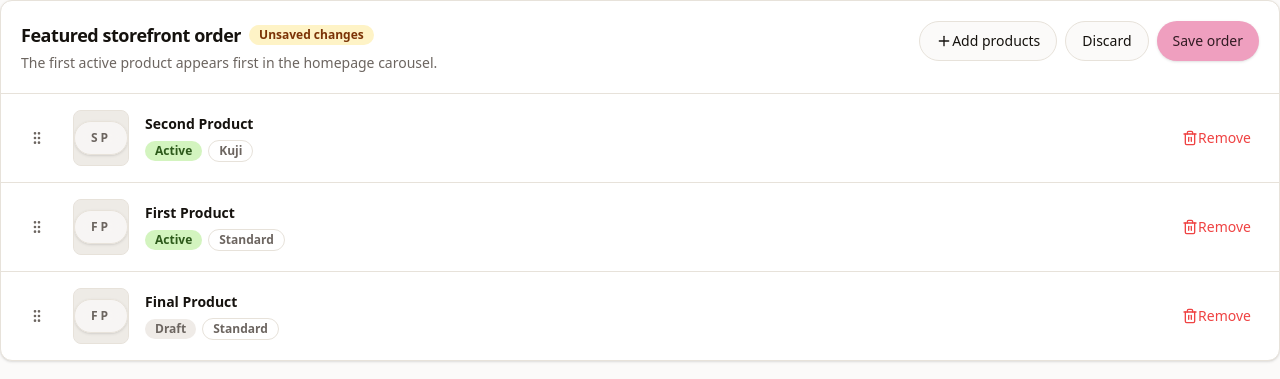
Test: FeaturedOrderSection › confirms discard and restores the persisted order
The width and height of the screenshot is (1280, 379).
Click the button "Discard" at (1107, 41), box [1065, 21, 1148, 61]
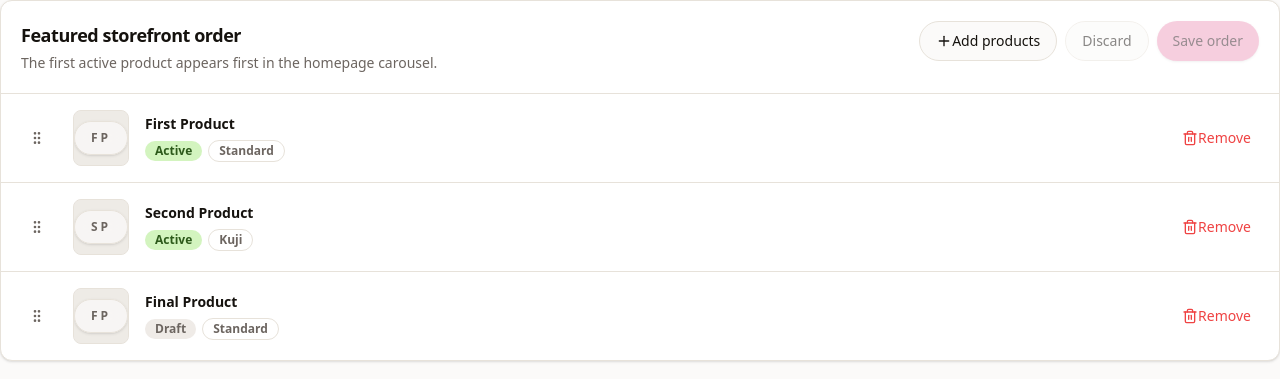
Expected: the list item that starts with "First Product" is shown, [145, 114, 235, 133]
Expected: the button "Save order" is disabled, [1156, 21, 1259, 61]
